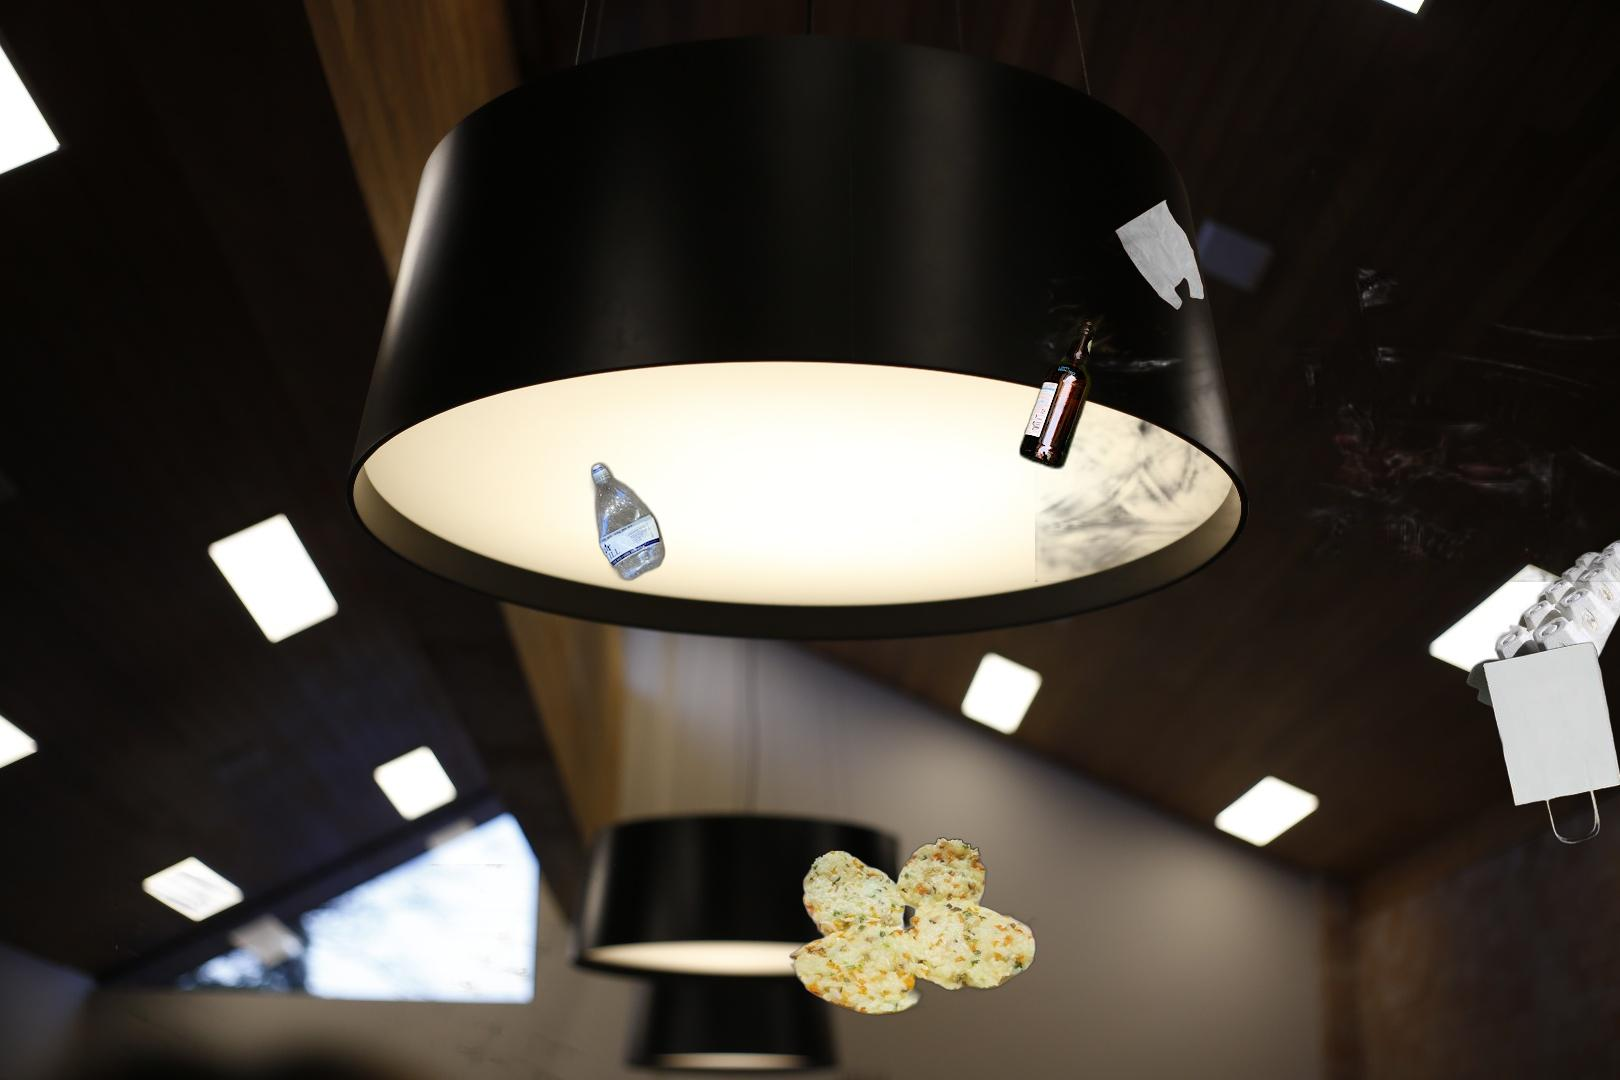biological: (1035, 102, 1620, 582), (773, 835, 1041, 1017)
glass: (1015, 313, 1100, 475)
paper-bag: (1480, 585, 1620, 847)
penholder: (116, 864, 616, 1080)
plastic-bag: (1113, 196, 1207, 313)
plastic-bottles: (588, 459, 669, 585)
trashbox-cardboard: (1465, 536, 1620, 726)
